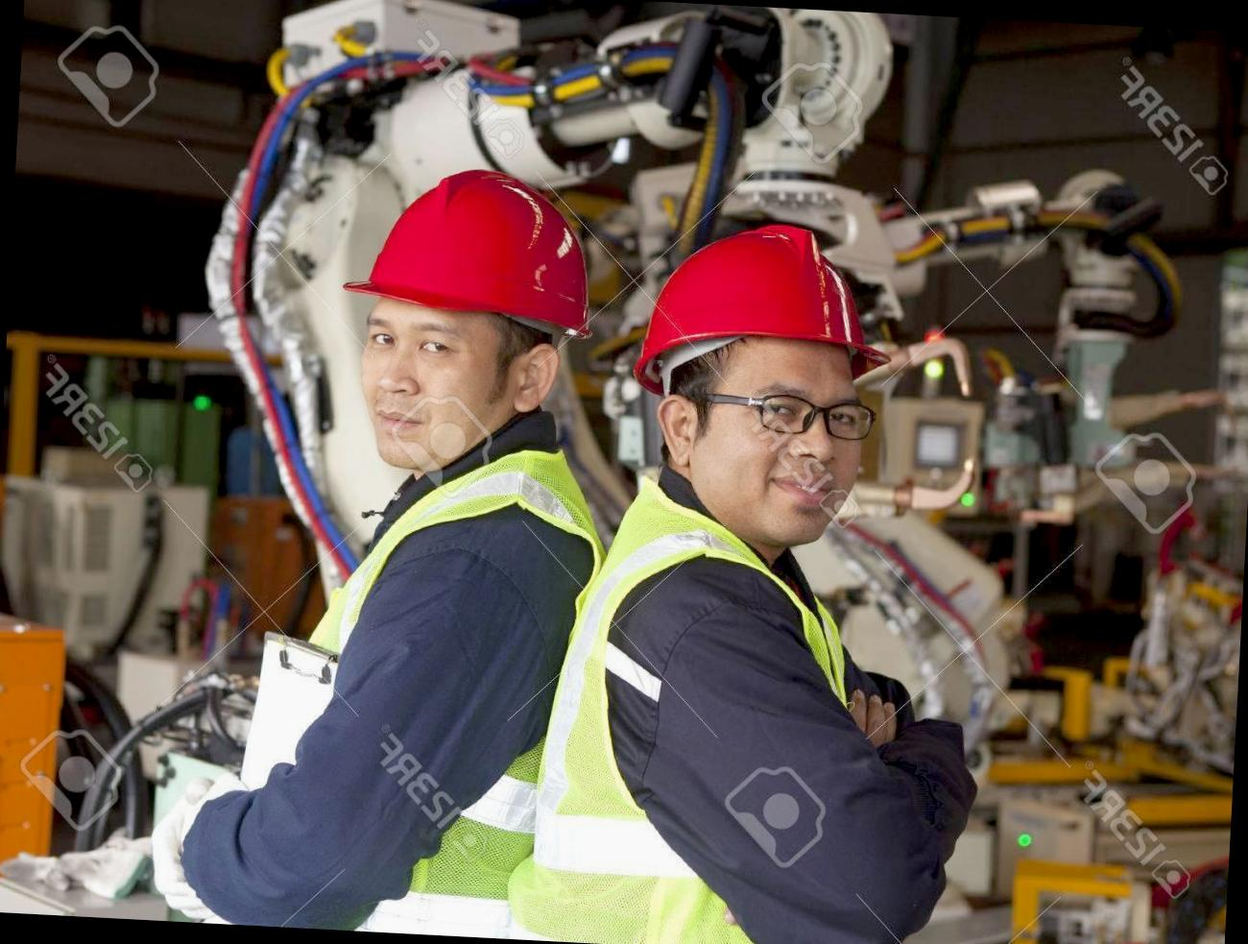helmet: (623, 208, 907, 402), (324, 159, 600, 354)
person: (555, 192, 1007, 944), (205, 149, 627, 943)
